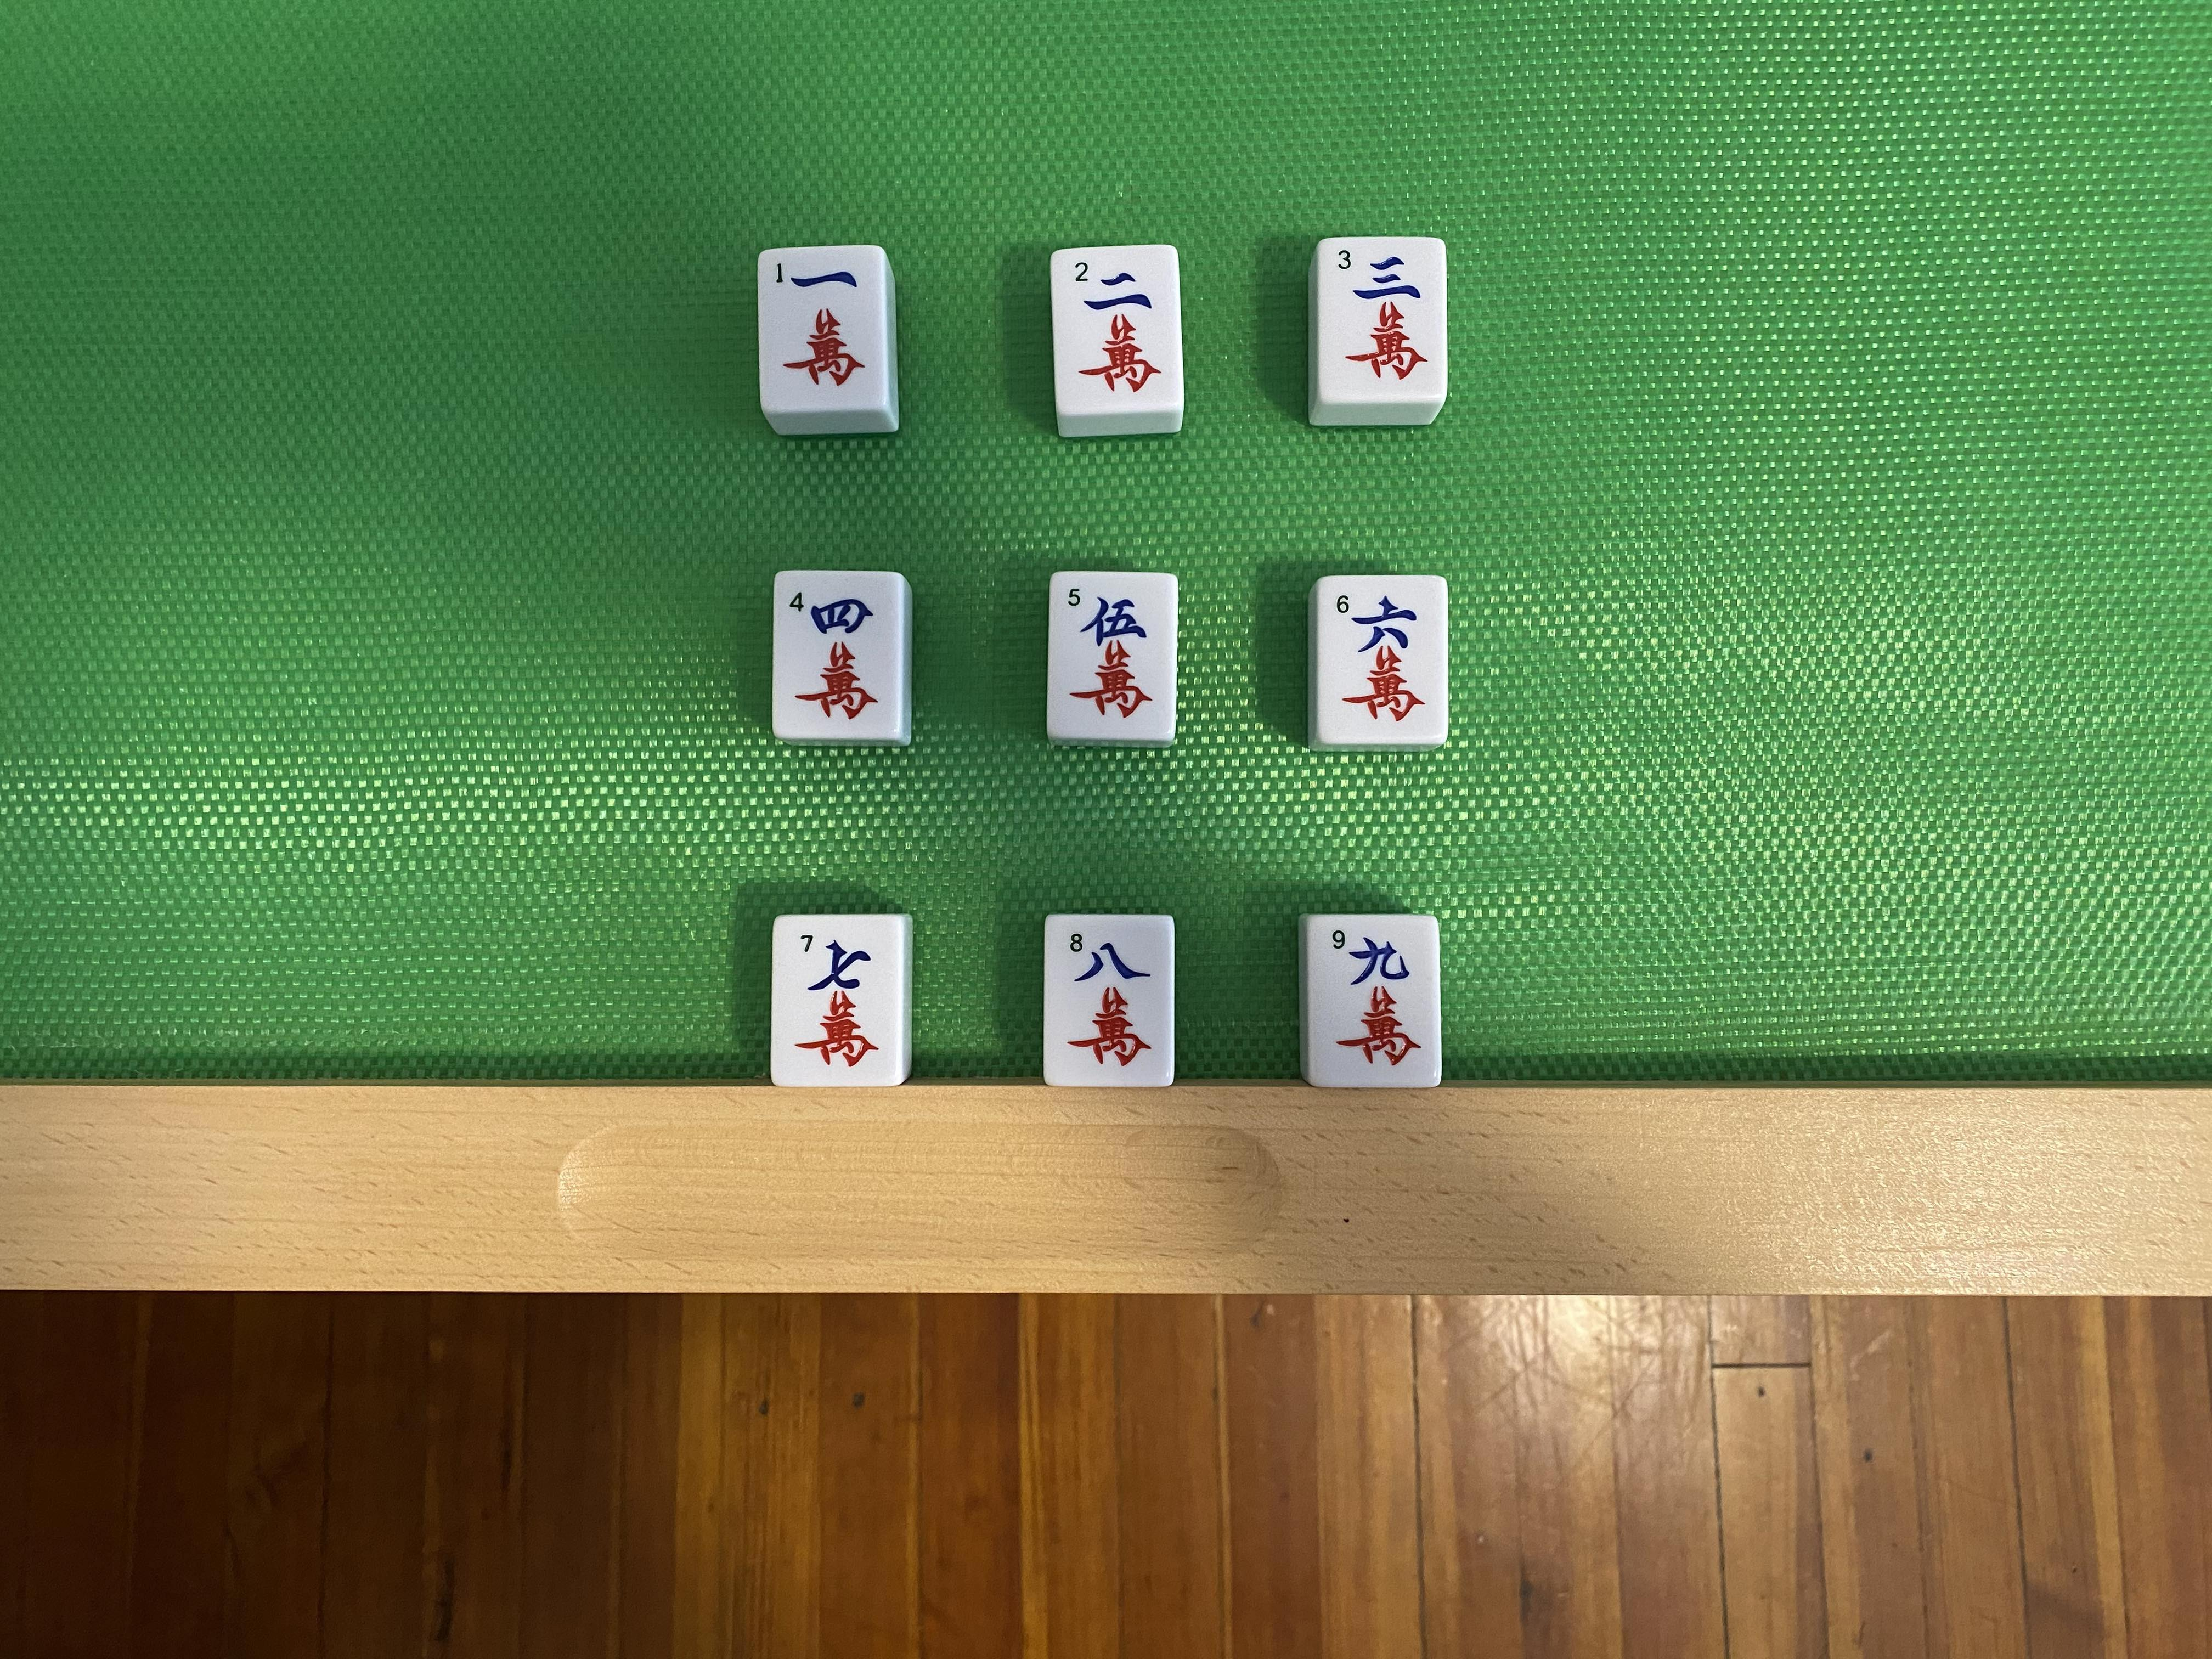character-eight: (1047, 915, 1174, 1087)
character-five: (1052, 575, 1176, 737)
character-four: (775, 573, 900, 734)
character-nine: (1308, 918, 1439, 1084)
character-one: (761, 249, 887, 408)
character-seven: (775, 917, 899, 1084)
character-six: (1322, 579, 1449, 739)
character-three: (1320, 242, 1446, 399)
character-two: (1052, 253, 1179, 406)
